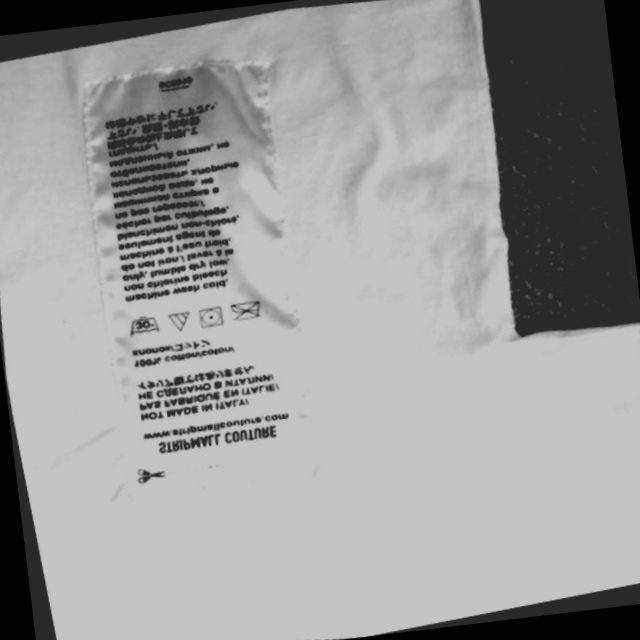30C: (120, 306, 167, 344)
DN_iron: (224, 290, 273, 334)
non_chlorine_bleach: (161, 303, 198, 338)
tumble_dry_low: (187, 298, 232, 336)
